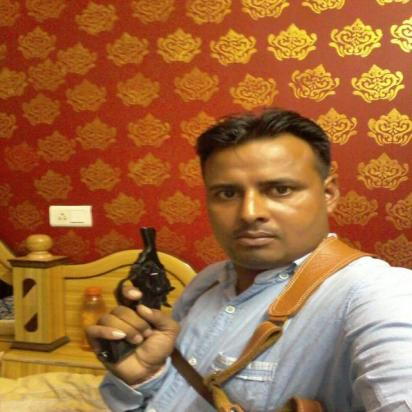Gun: (90, 223, 180, 369)
